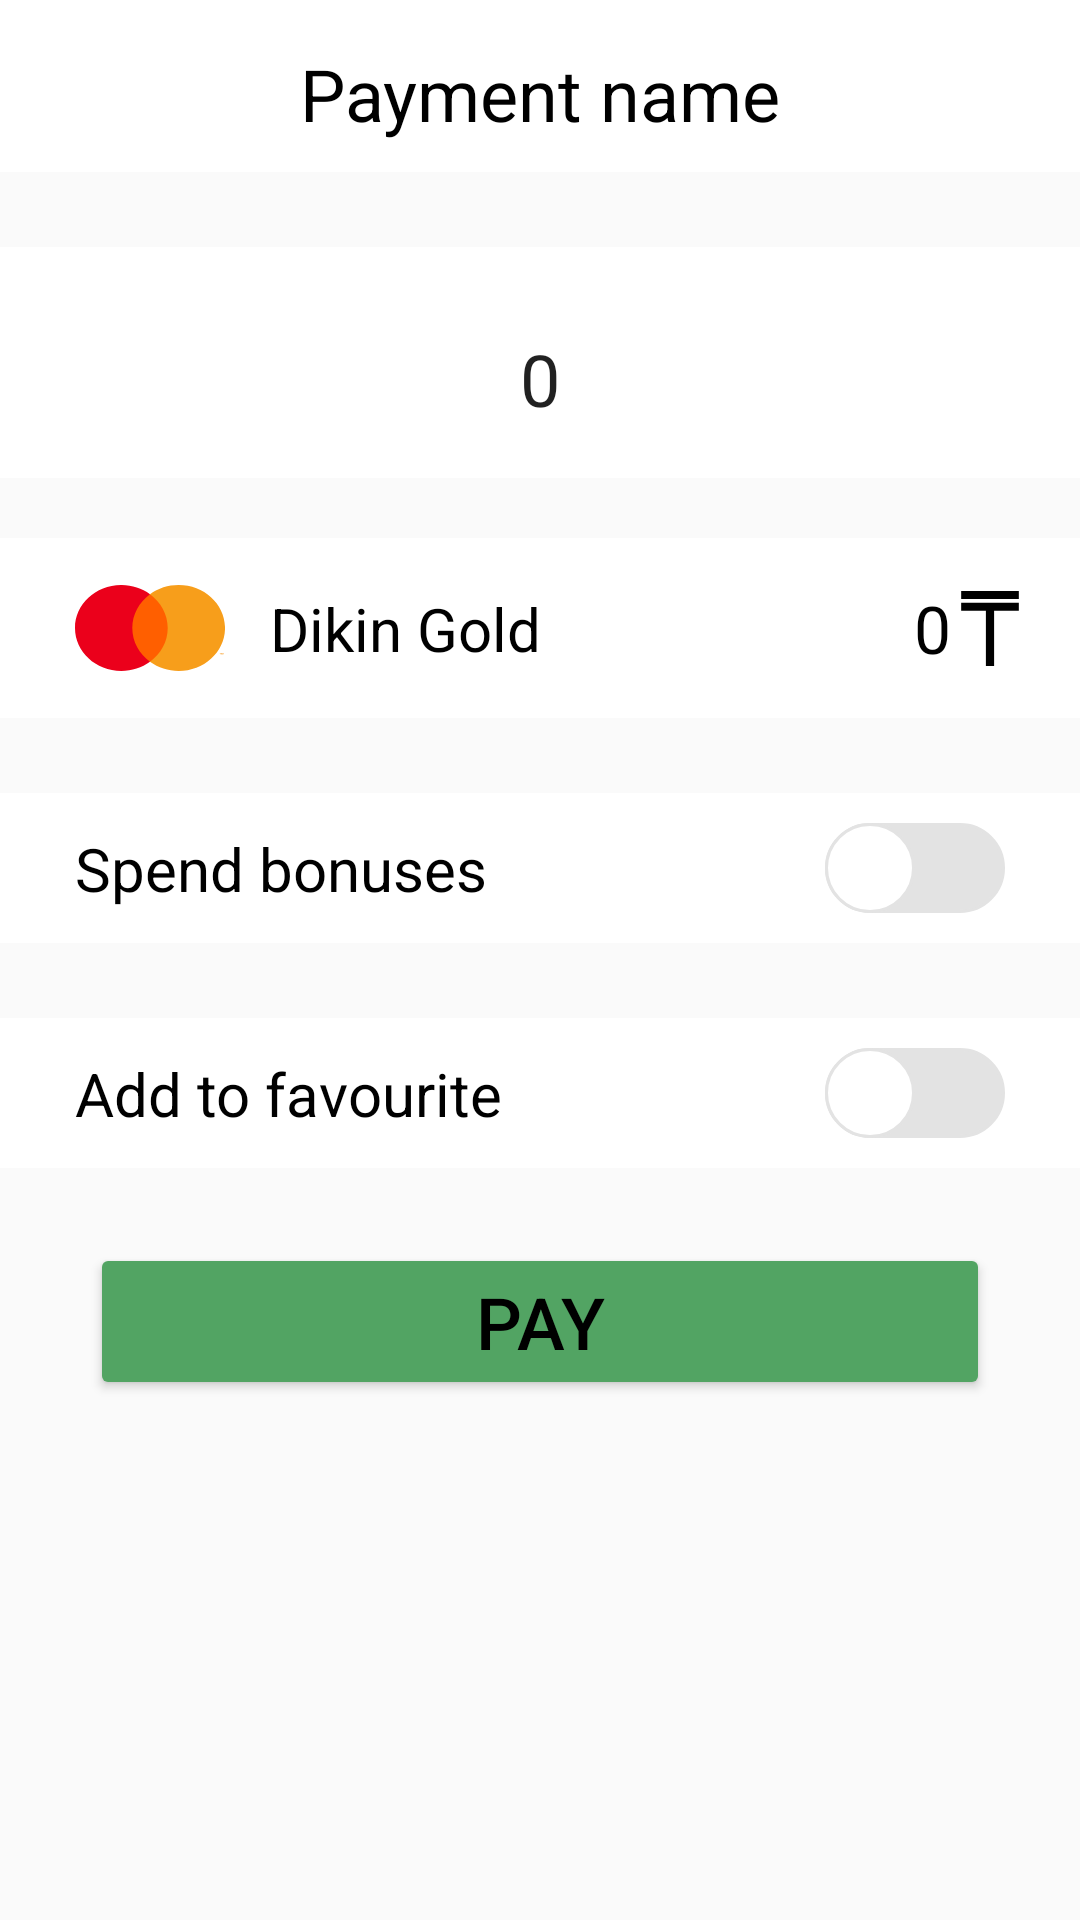

Named icons in this screenshot (1080w x 1920h) and their centers, [x,y]:
Tenge Sign: [990,628]
